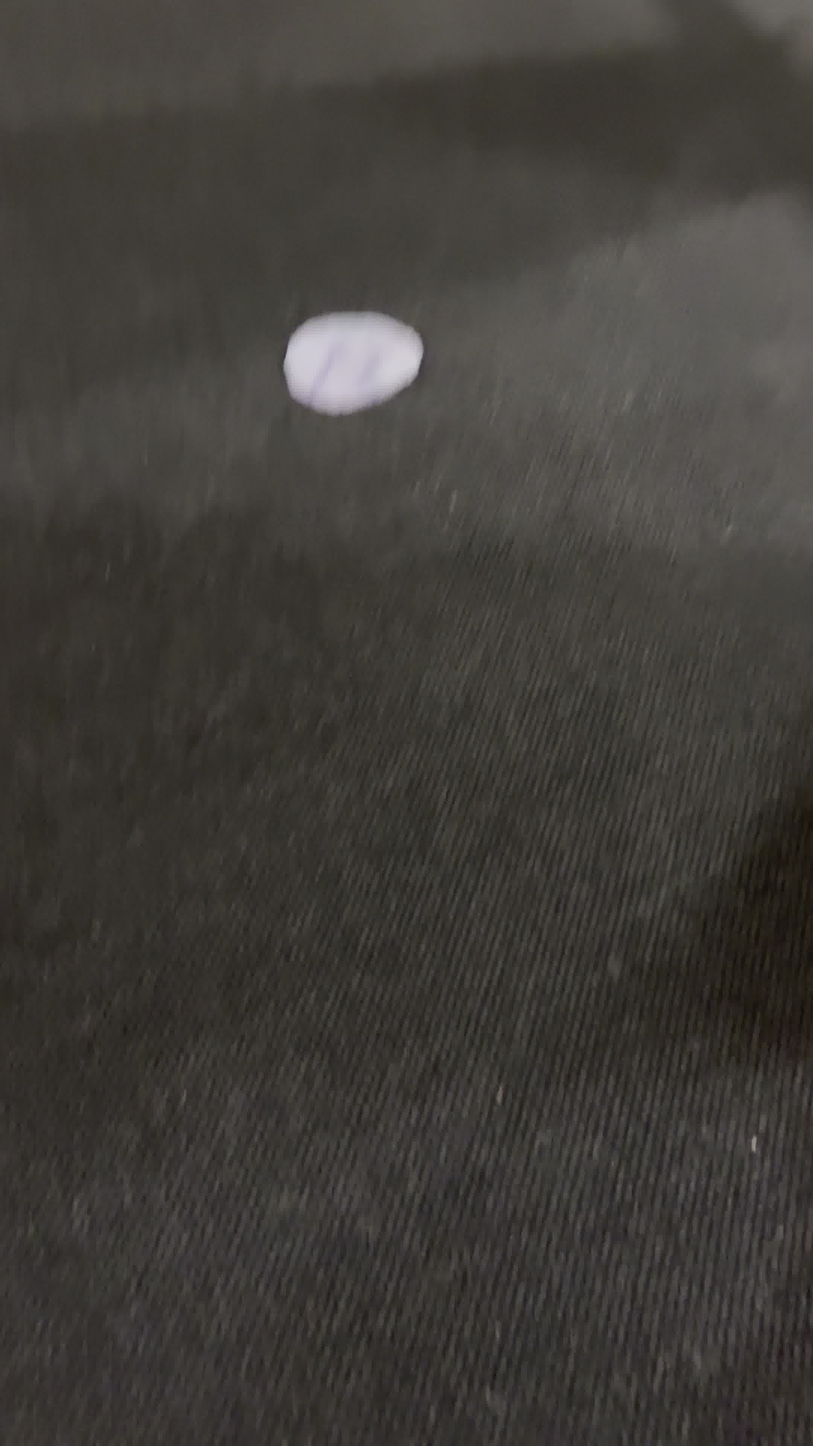Target: (283, 310, 424, 417)
